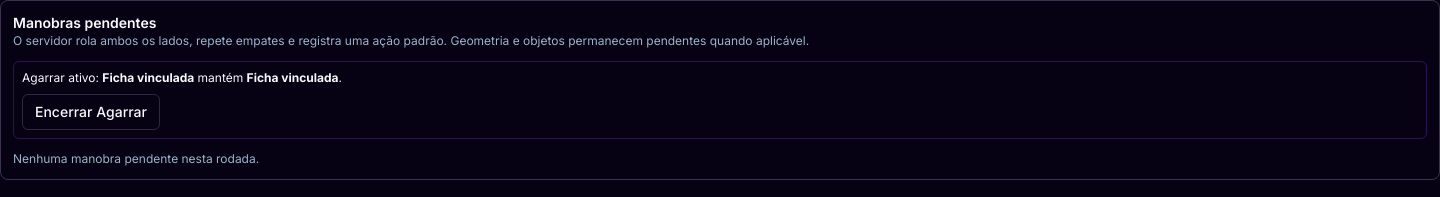
controles compartilhados de manobra › permite ao mestre encerrar vínculo de Agarrar resolvido sem repetir efeito
The image size is (1440, 197).
Click the button "Encerrar Agarrar": (91, 112) top-left (22, 94), bottom-right (160, 130)
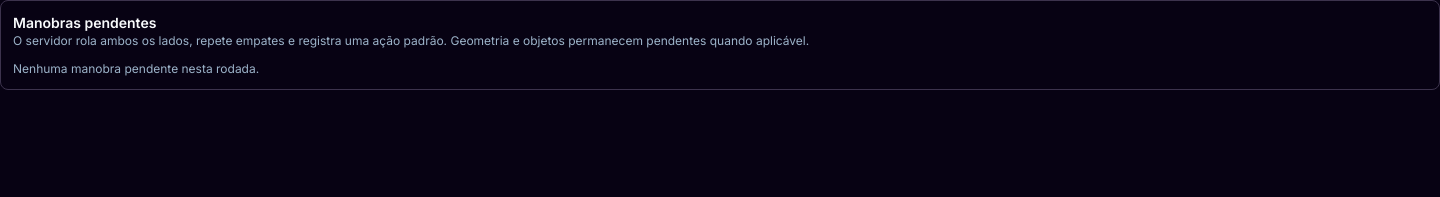
Check: the button "Encerrar Agarrar" is gone
